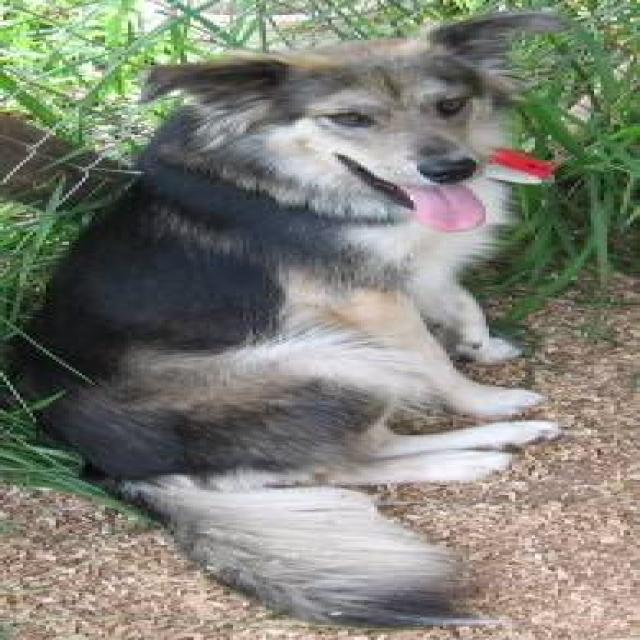dog: (0, 9, 591, 628)
